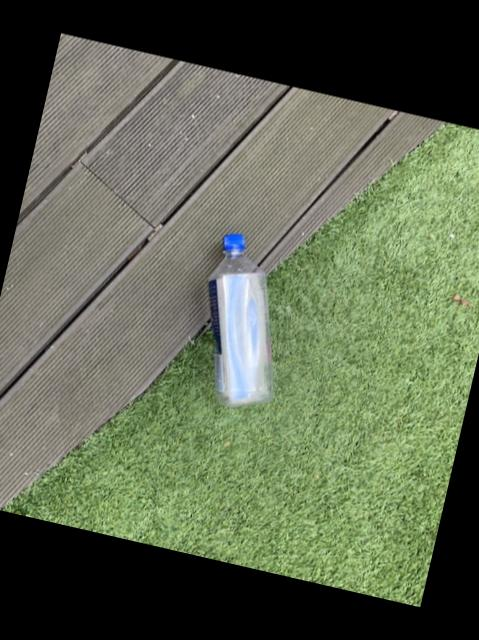plastic: (206, 232, 270, 404)
